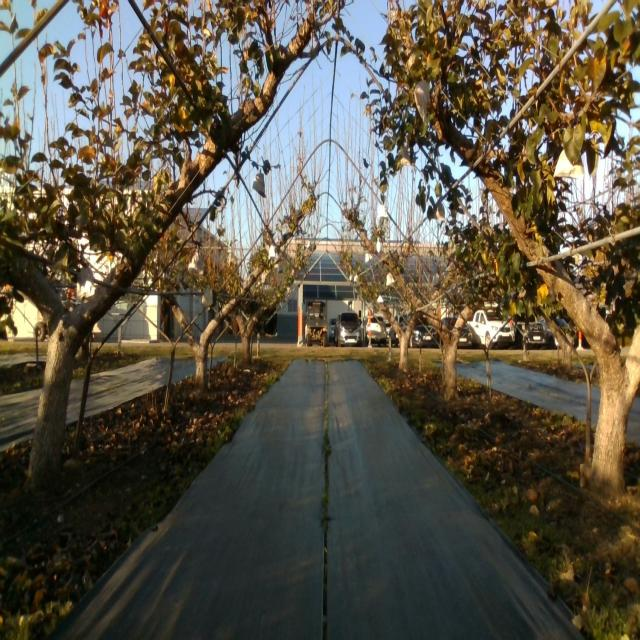pearbags: (552, 145, 584, 178), (414, 78, 431, 126), (76, 262, 94, 299), (188, 248, 204, 276), (252, 168, 266, 198), (433, 201, 446, 221)
